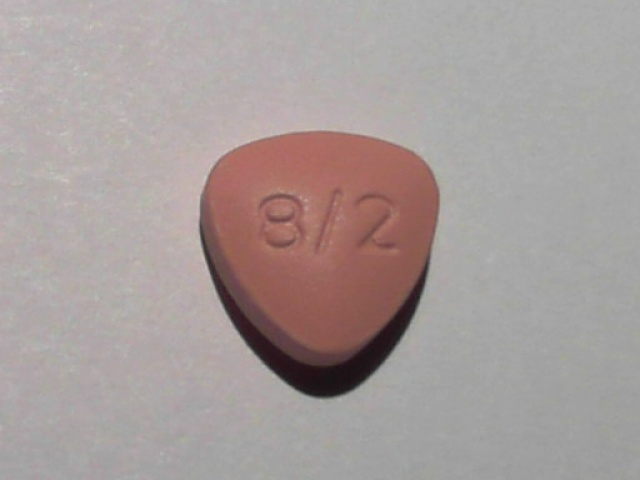/2: (309, 183, 406, 257)
8: (252, 183, 312, 254)
